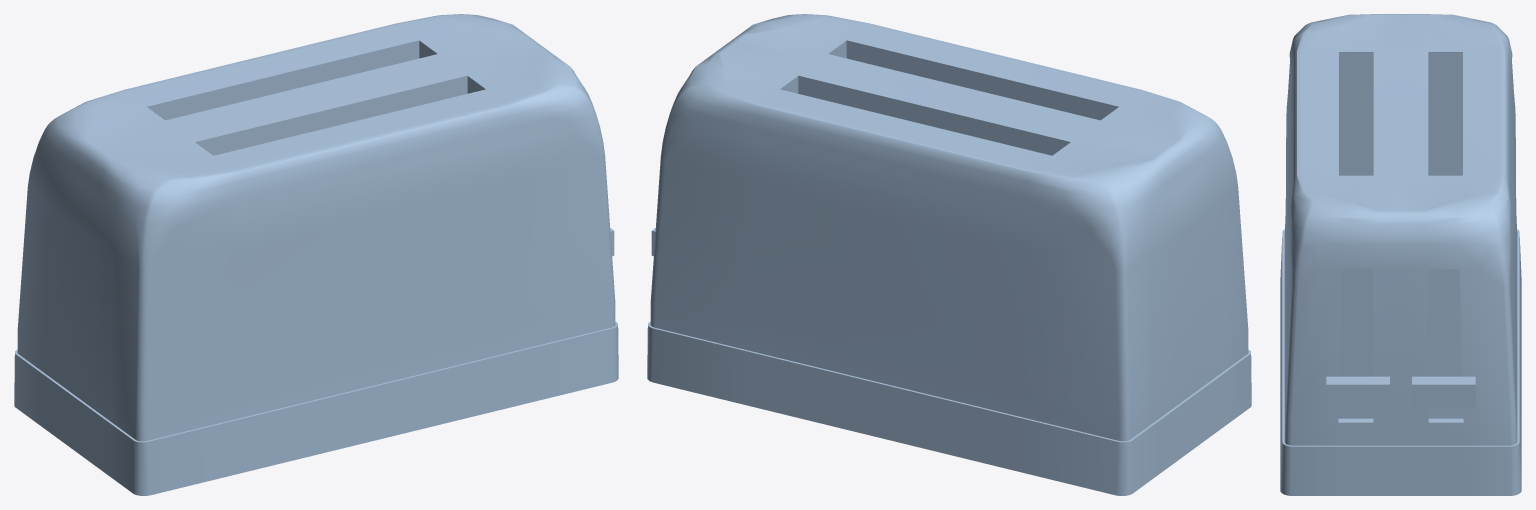
The model's file is toaster.fbx.
3 views of the same model, side by side, from view 1: azimuth 30°, elevation 25°; view 2: azimuth 150°, elevation 25°; view 3: azimuth 270°, elevation 25° (orthographic). The views are drawn at different scales.
Parts seen in each view (by area): view 1: Cube; view 2: Cube; view 3: Cube.
Boxes of the visible parts, x1=… form: Cube: x1=14, y1=14, x2=618, y2=495; Cube: x1=647, y1=14, x2=1251, y2=495; Cube: x1=1280, y1=14, x2=1521, y2=495.
Bounding box in the file's own units: 356 × 202 × 160.
